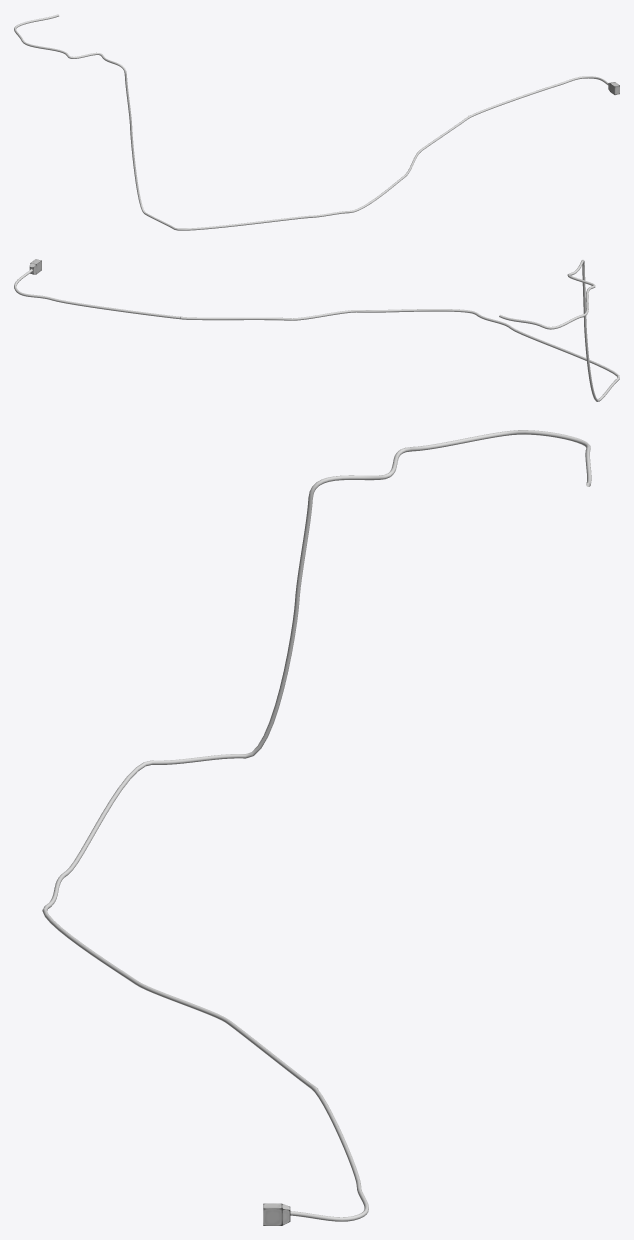
The model's file is wire_lamp.fbx.
3 renders of one model, top to bottom at view 1: azimuth 30°, elevation 25°; view 2: azimuth 150°, elevation 25°; view 3: azimuth 270°, elevation 25°, orthographic. The views are drawn at different scales.
Parts seen in each view (by area): view 1: wire_lamp_off.002; view 2: wire_lamp_off.002; view 3: wire_lamp_off.002.
Part boxes in pixels (x1,y1,x2,y2): wire_lamp_off.002: (14,14,608,230); wire_lamp_off.002: (14,260,619,401); wire_lamp_off.002: (42,430,591,1221).
Size of the model in its own units: 5.4 by 1.34 by 2.4.
1 material, 1 textured.
